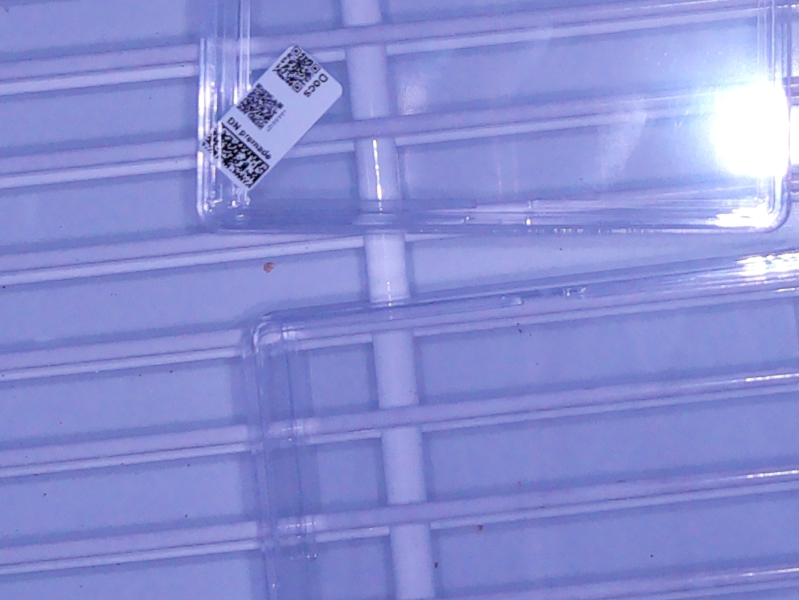plate: (250, 255, 799, 600), (192, 1, 799, 238)
